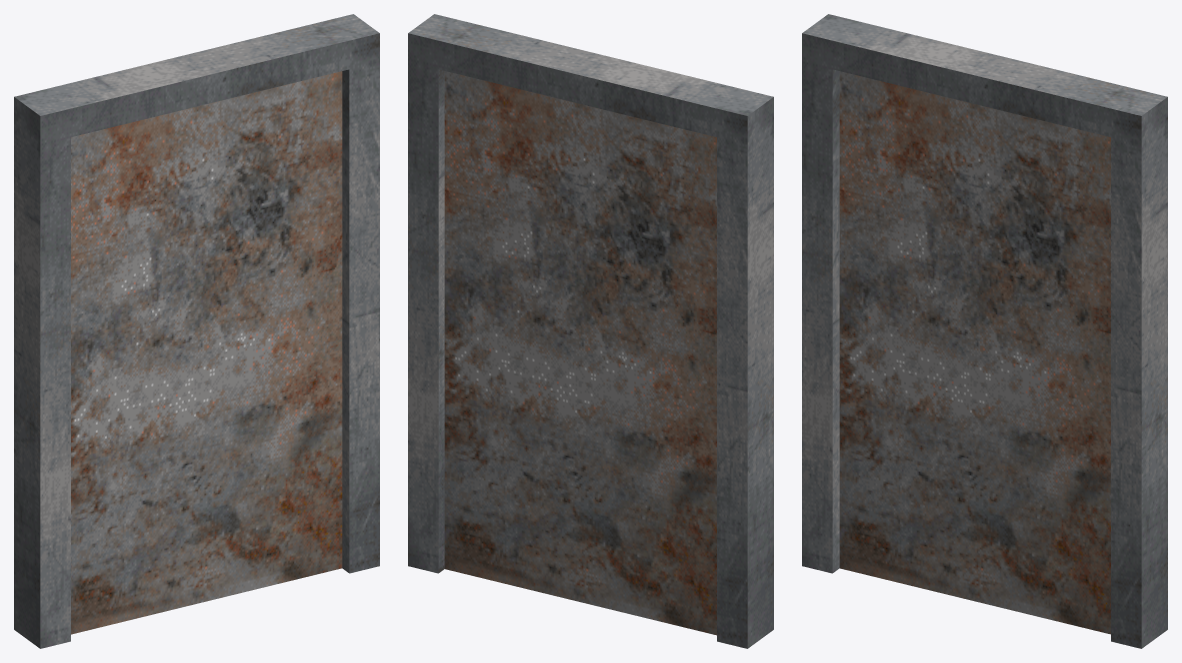
Rendered from Door (2).fbx.
3 renders of one model, left to right at view 1: azimuth 30°, elevation 25°; view 2: azimuth 150°, elevation 25°; view 3: azimuth 330°, elevation 25°, orthographic.
Visible parts, largest first — view 1: Cube.011, Door3; view 2: Cube.011, Door3; view 3: Cube.011, Door3.
Boxes of the visible parts, x1,y1,x2,y2 form: Cube.011: [71, 71, 342, 634]; Door3: [14, 14, 379, 648]; Cube.011: [444, 71, 716, 635]; Door3: [408, 14, 773, 648]; Cube.011: [839, 71, 1110, 634]; Door3: [802, 14, 1167, 648].
Bounding box in the file's own units: 300 × 450 × 40.25.
